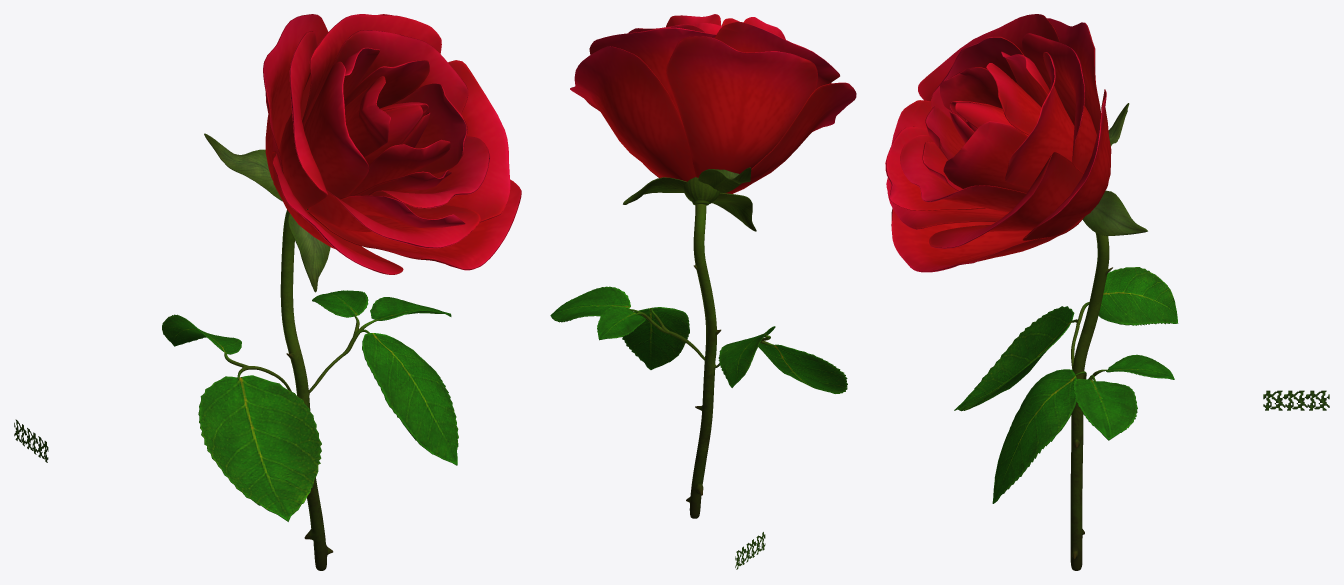
The model's file is rose prev.glb.
The picture shows the model from 3 angles, left to right: view 1: azimuth 30°, elevation 25°; view 2: azimuth 150°, elevation 25°; view 3: azimuth 270°, elevation 25°; orthographic projection. The views are drawn at different scales.
Visible parts, largest first — view 1: node_id563_4; view 2: node_id563_4; view 3: node_id563_4, node_id158_0.
Part boxes in pixels (x1,y1,x2,y2): node_id563_4: (162,14,521,570); node_id563_4: (550,14,856,518); node_id563_4: (885,14,1178,570); node_id158_0: (1285,390,1329,410).
Size of the model in its own units: 0.3158 by 0.512 by 0.3822.
Materials: 3 (3 with a texture image).
